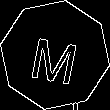M_N: (27, 26, 83, 84)
